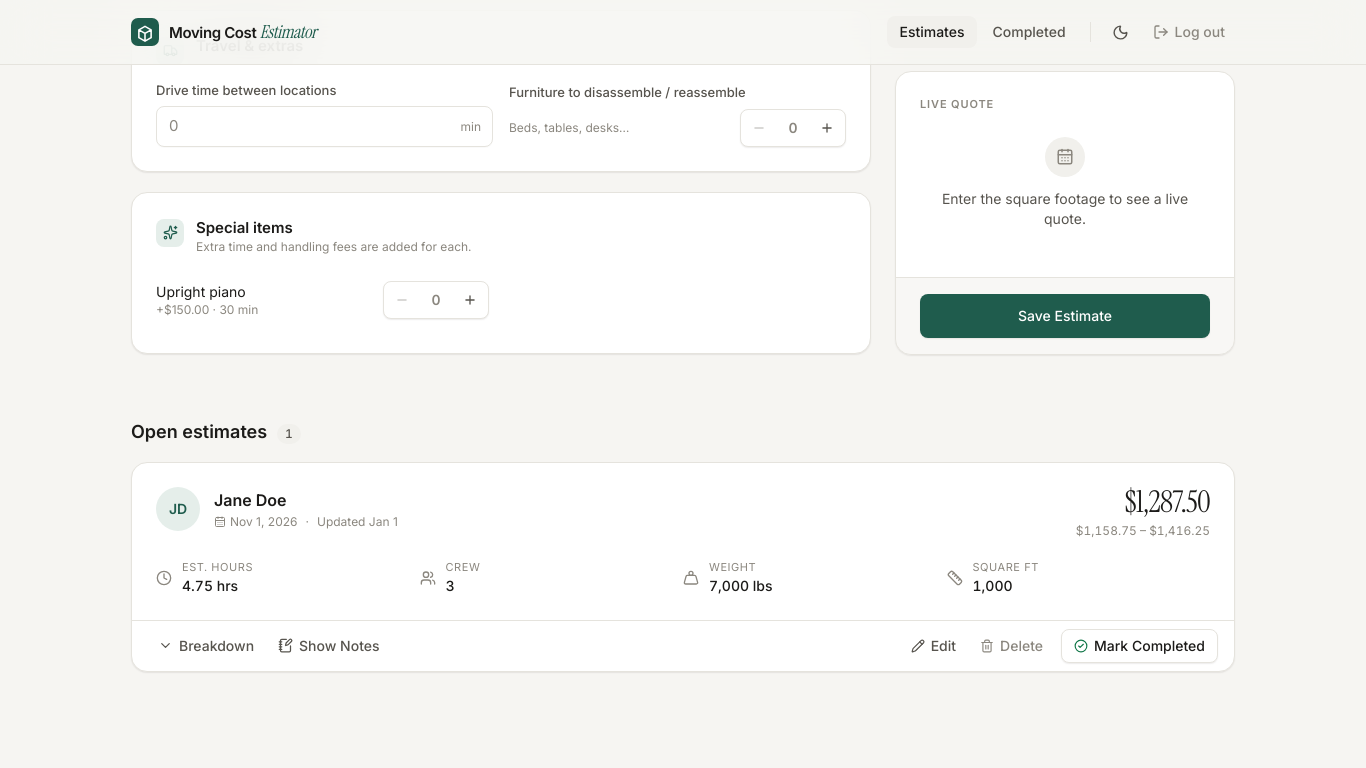
it: Estimate page › edits an estimate with the full form and updates the card
The image size is (1366, 768).
(page scrolled)
Expected: the heading "Jane Doe" is shown, [214,490,286,510]
Click the button "Edit": (933, 646) [901,630,966,662]
(page scrolled)
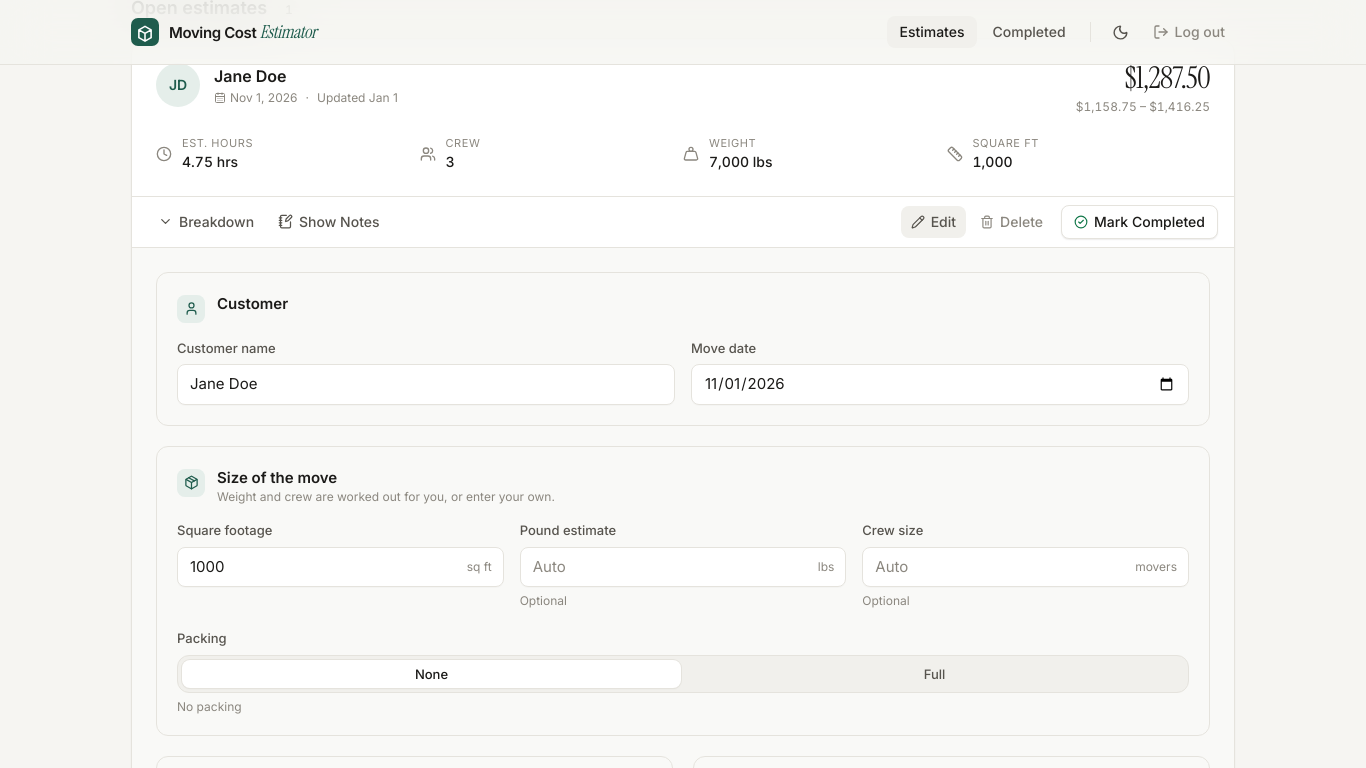
Expected: the number field labelled "Square footage" holds "1000", [177,547,504,587]
Replace the text in the field labelled "Customer name" with "Jane Smith": (426, 385) [177,364,675,405]
(page scrolled)
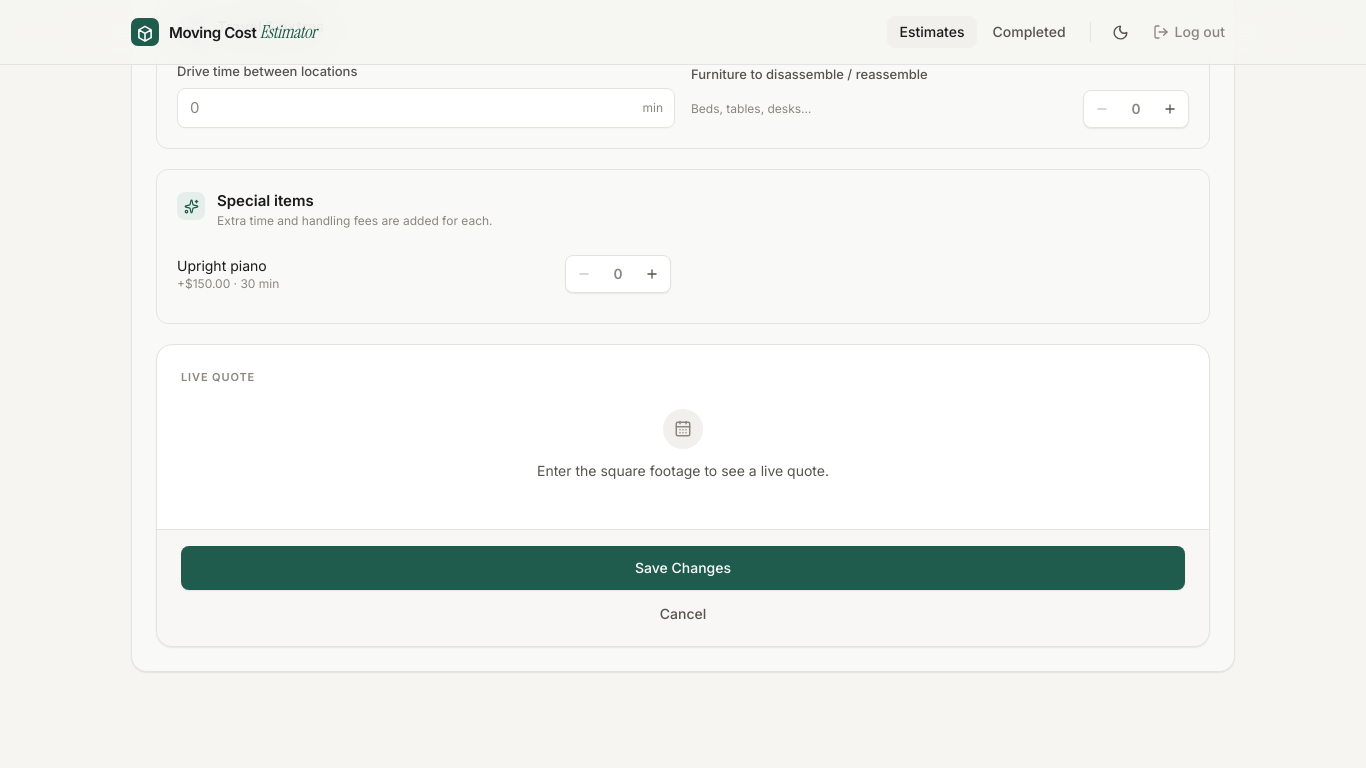
Click the button "Save Changes": (683, 568) [181,546,1185,590]
(page scrolled)
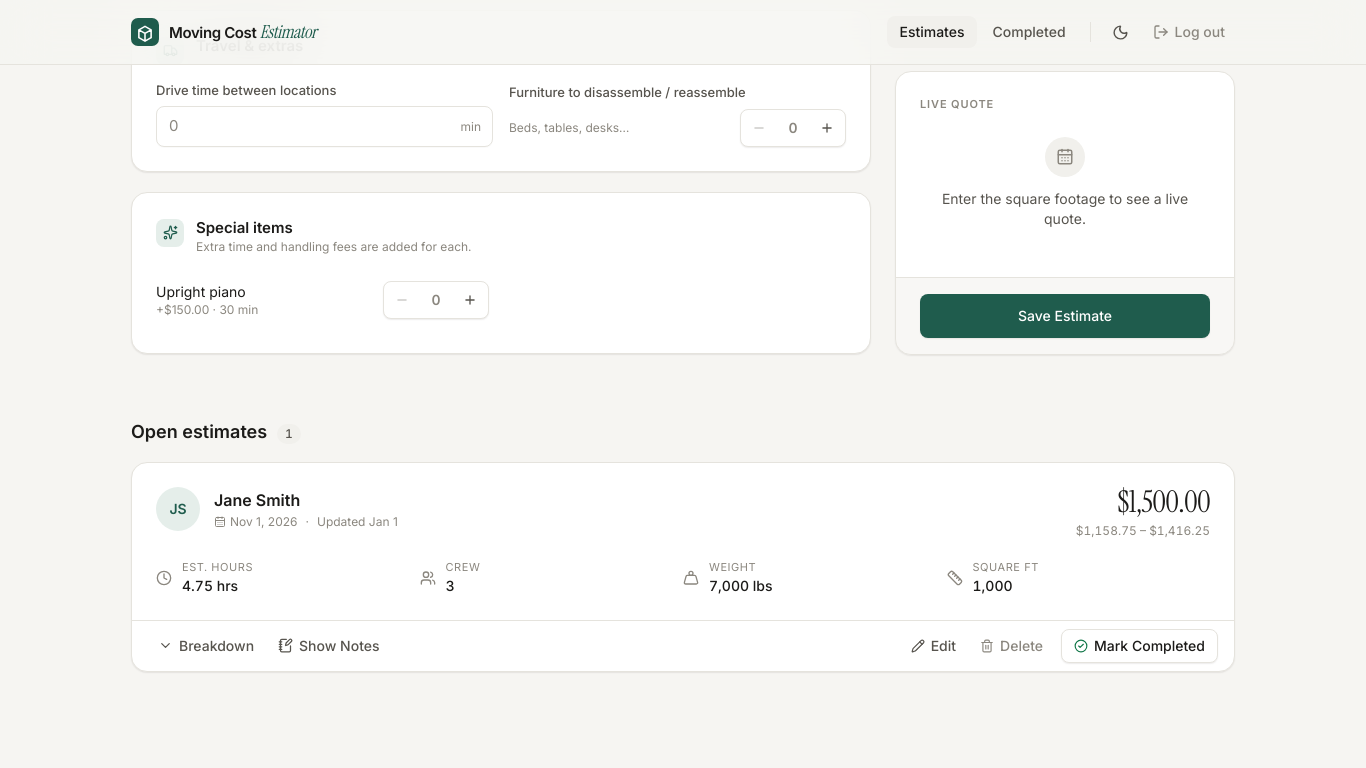
Expected: the heading "Jane Smith" is shown, [214,490,300,510]
Expected: the text "$1,500.00" is shown, [1117,482,1210,521]
